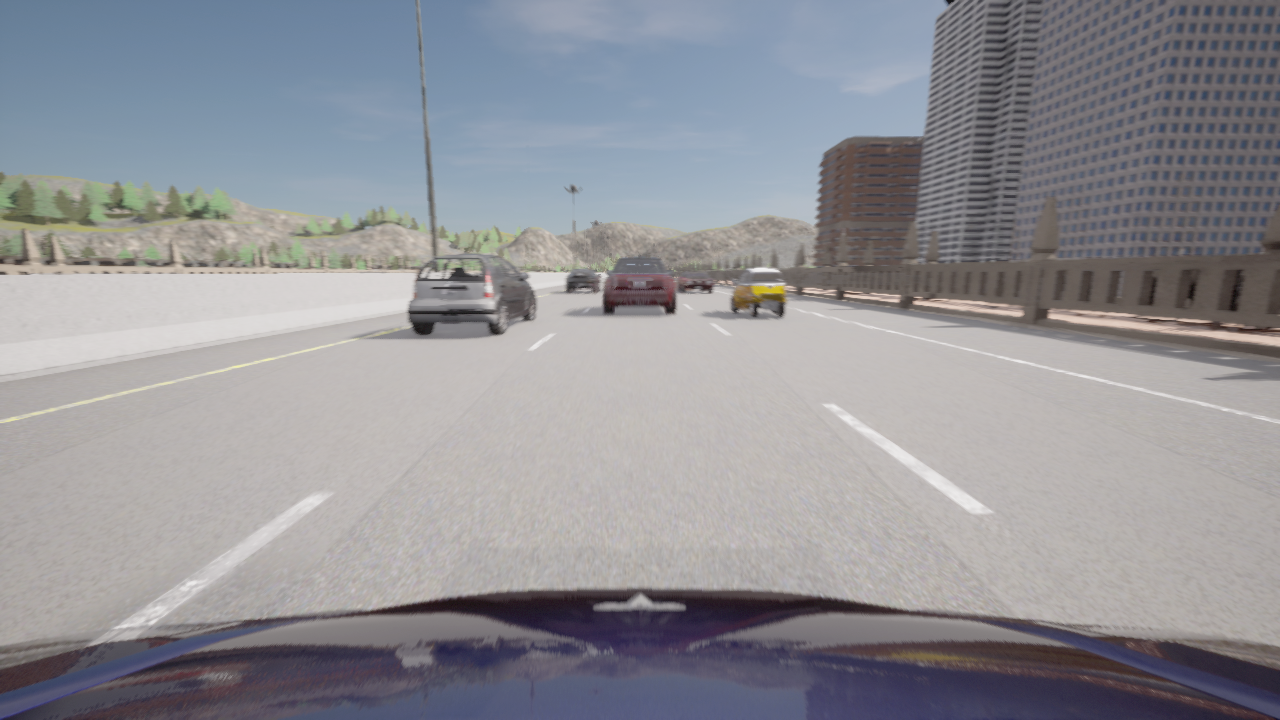cyclist: (0, 588, 1279, 719), (407, 253, 536, 335), (604, 256, 675, 313), (731, 267, 786, 317), (566, 268, 601, 292), (677, 272, 714, 292)
